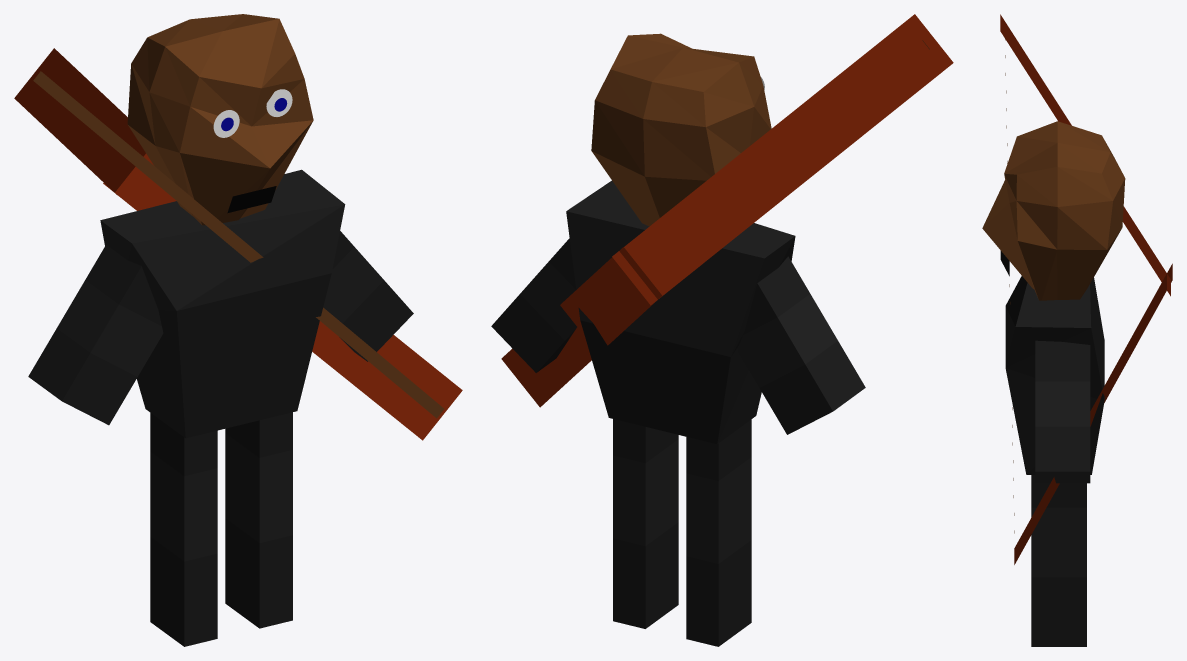
The model's file is heavyarcher1.obj.
3 renders of one model, left to right at view 1: azimuth 30°, elevation 25°; view 2: azimuth 150°, elevation 25°; view 3: azimuth 270°, elevation 25°, orthographic. The views are drawn at different scales.
Visible parts, largest first — view 1: Cube.001, Cube, Cube.004, Cube.005, Cube.003, Plane.001_Plane.002, Plane.002_Plane.003, Plane.003_Plane.004, Cube.002, Plane; view 2: Cube.001, Plane.002_Plane.003, Cube, Cube.004, Cube.005, Cube.003, Plane.001_Plane.002, Cube.002; view 3: Cube, Cube.001, Cube.005, Cube.002, Plane.001_Plane.002, Plane.002_Plane.003.
Part boxes in pixels (box(x1,y1,x2,y2)): Cube.001: box(100, 169, 345, 438); Cube: box(127, 14, 313, 225); Cube.004: box(150, 413, 217, 646); Cube.005: box(225, 412, 292, 628); Cube.003: box(28, 244, 163, 425); Plane.001_Plane.002: box(103, 153, 462, 440); Plane.002_Plane.003: box(14, 48, 145, 194); Plane.003_Plane.004: box(33, 71, 443, 418); Cube.002: box(323, 231, 413, 361); Plane: box(227, 186, 276, 213); Cube.001: box(566, 180, 795, 444); Plane.002_Plane.003: box(612, 14, 953, 305); Cube: box(591, 33, 771, 226); Cube.004: box(686, 419, 751, 646); Cube.005: box(613, 419, 678, 628); Cube.003: box(738, 256, 865, 434); Plane.001_Plane.002: box(501, 247, 662, 407); Cube.002: box(491, 238, 576, 372); Cube: box(982, 121, 1125, 300); Cube.001: box(1005, 276, 1104, 474); Cube.005: box(1031, 475, 1086, 646); Cube.002: box(1035, 340, 1090, 483); Plane.001_Plane.002: box(1014, 263, 1172, 564); Plane.002_Plane.003: box(1000, 14, 1170, 296).
Bounding box in the file's own units: 4.75 × 6.44 × 2.1.
